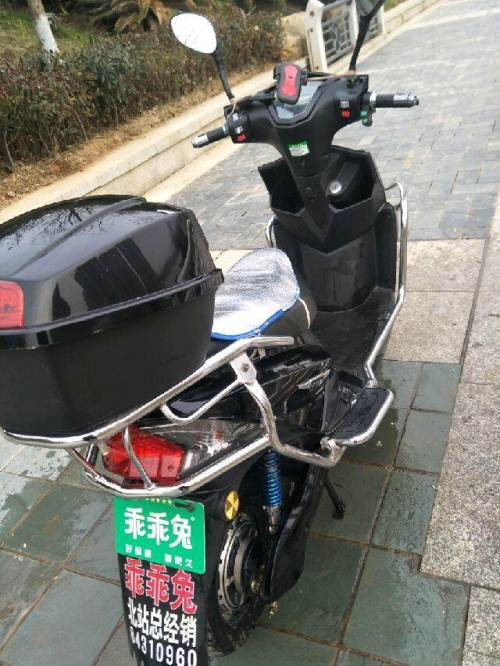电动车: (1, 1, 400, 660)
